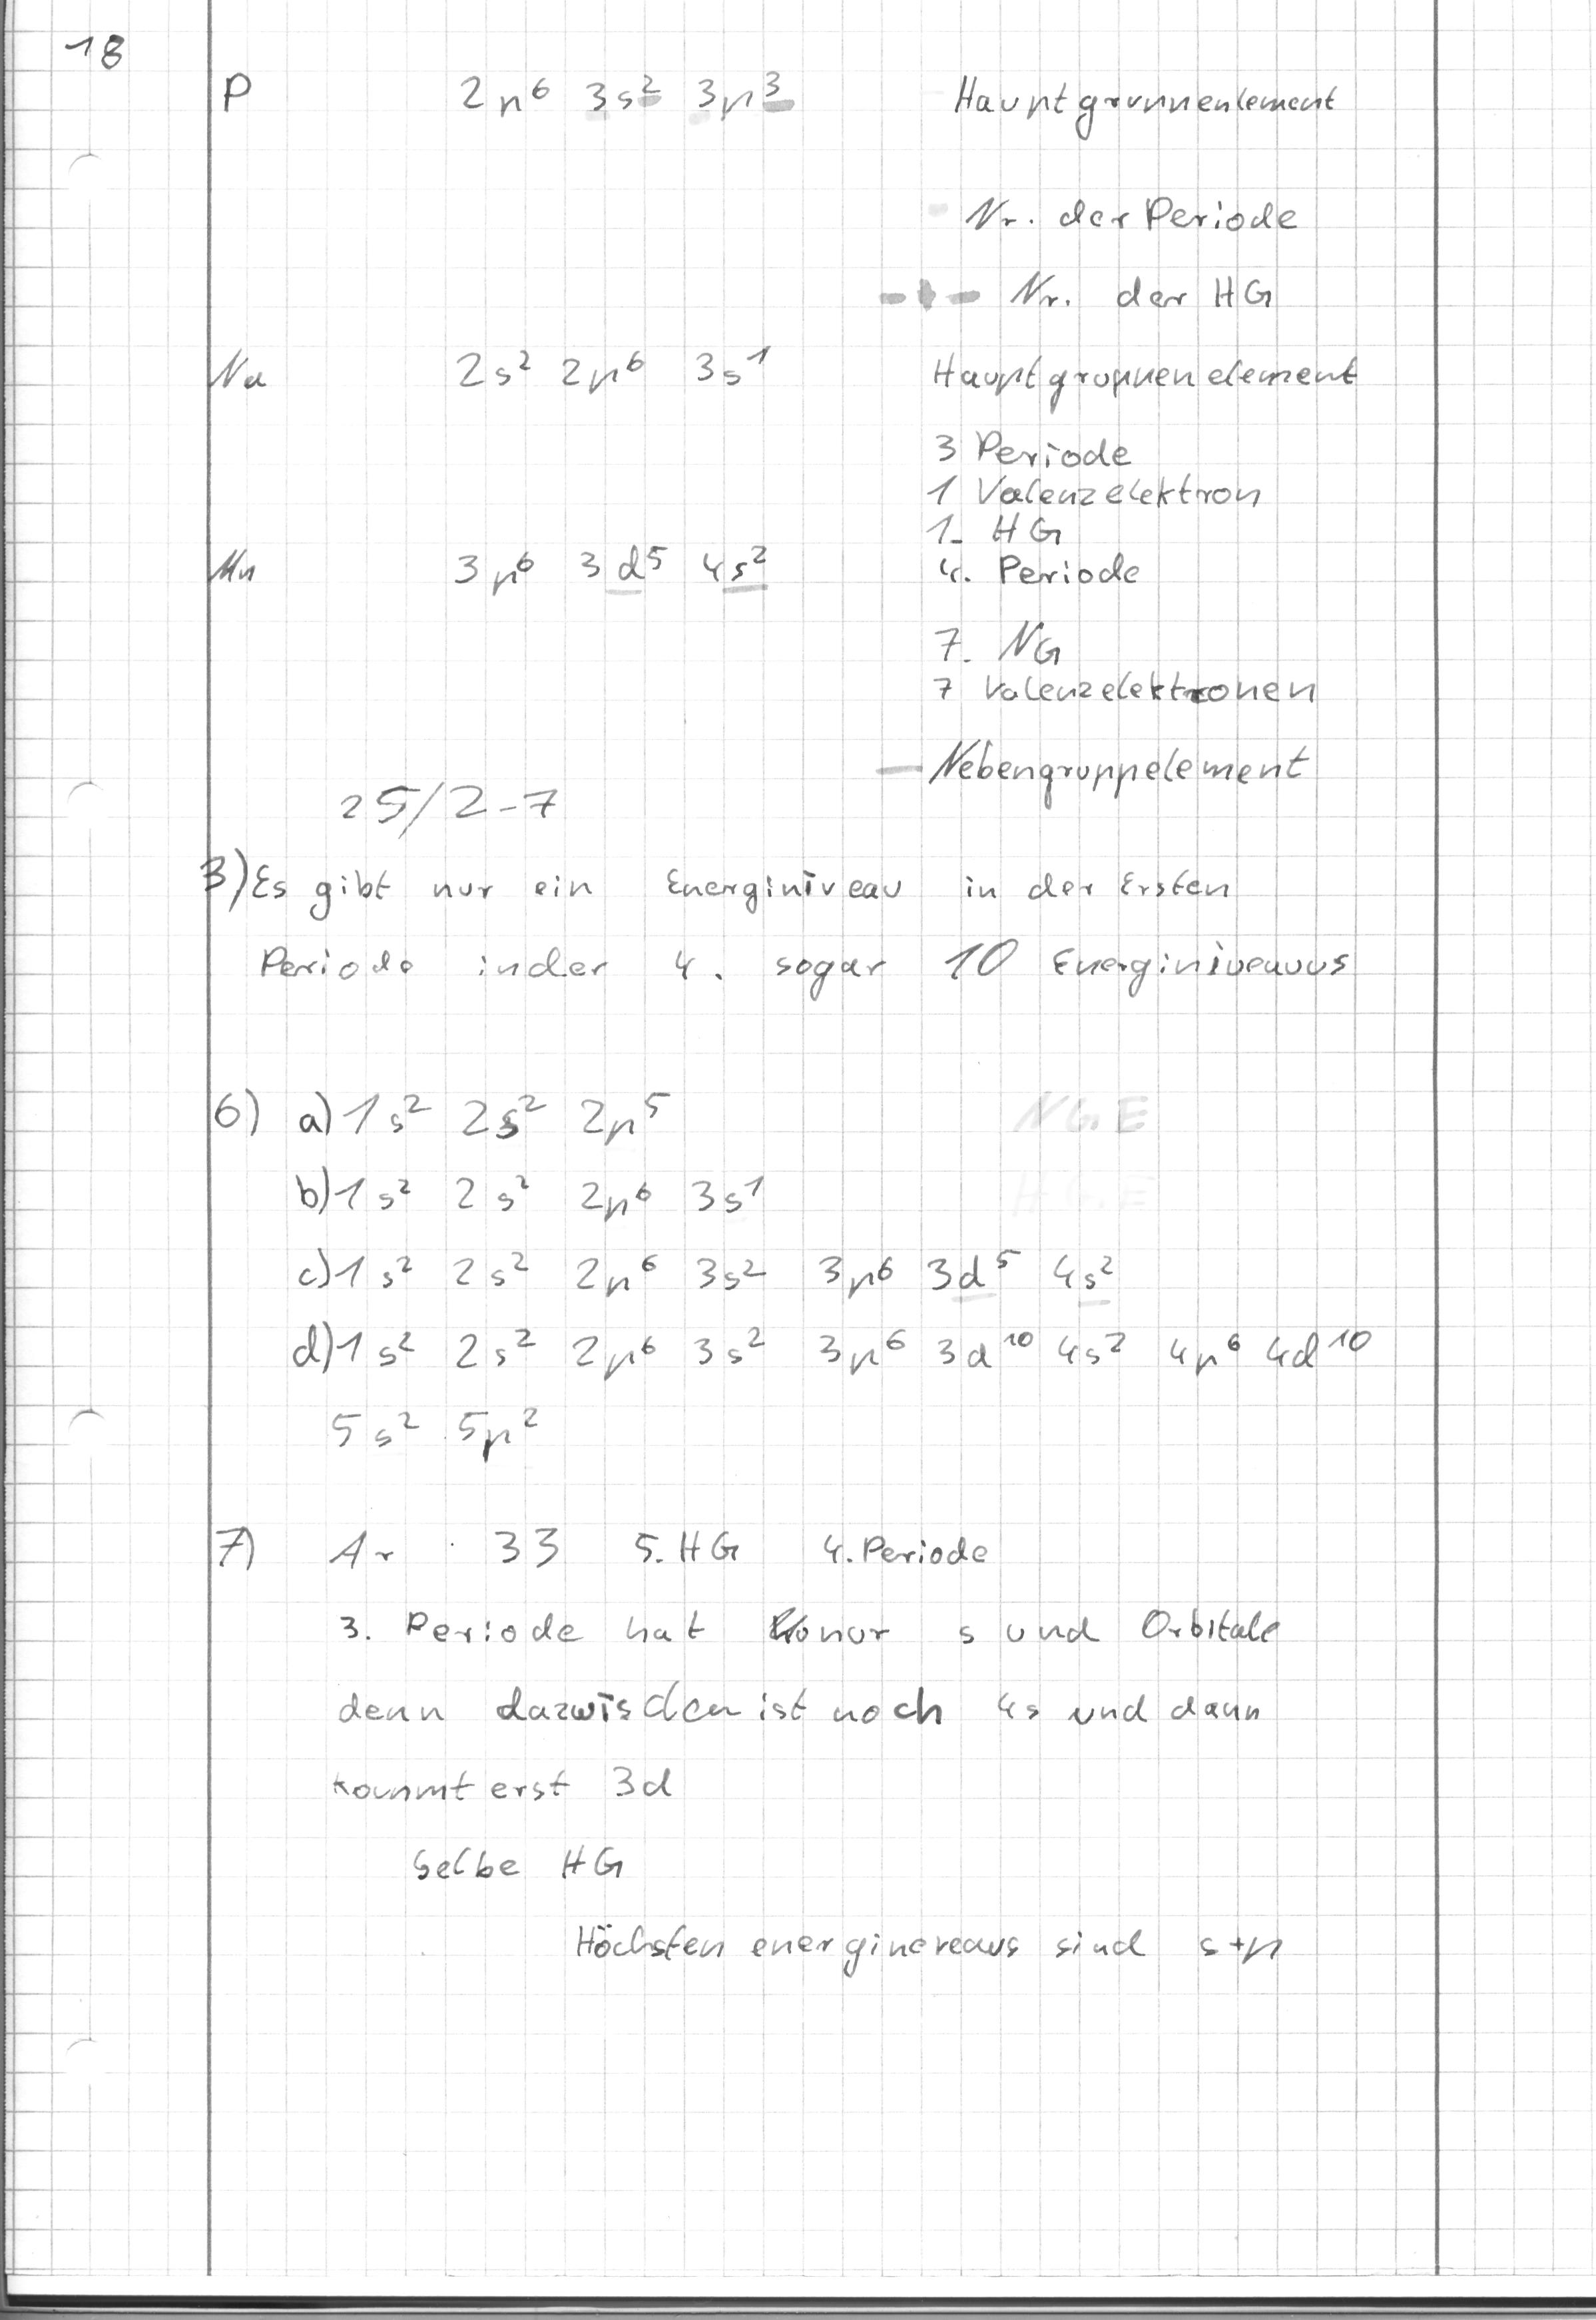word: (248, 929, 1363, 1031), (214, 55, 1363, 152), (277, 1301, 1390, 1394), (189, 834, 1246, 928), (204, 331, 1366, 413), (557, 1896, 1299, 1999), (331, 1664, 1279, 1741), (208, 1507, 1010, 1594), (273, 1231, 1131, 1308), (908, 418, 1275, 594), (316, 1596, 1284, 1660), (864, 729, 1325, 825), (917, 611, 1321, 719), (200, 535, 789, 606), (266, 1153, 789, 1229), (197, 1069, 684, 1151), (314, 1741, 692, 1830), (867, 256, 1307, 330), (913, 175, 1313, 254), (323, 759, 575, 850), (316, 1387, 549, 1476), (402, 1833, 649, 1902)
